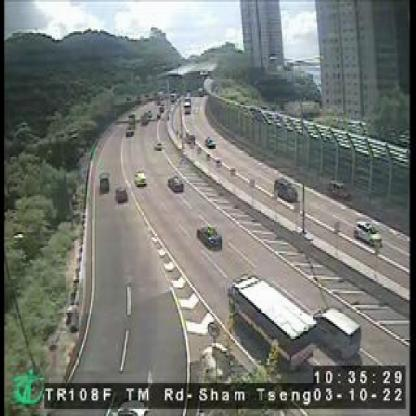Car: (311, 307, 361, 360), (354, 218, 384, 248), (273, 177, 296, 199), (198, 225, 222, 246), (329, 178, 348, 198), (165, 175, 183, 191), (113, 187, 127, 205), (96, 172, 109, 190), (133, 172, 147, 186), (204, 136, 213, 148), (152, 140, 161, 151), (126, 126, 133, 137)
Truck: (228, 274, 314, 371)
